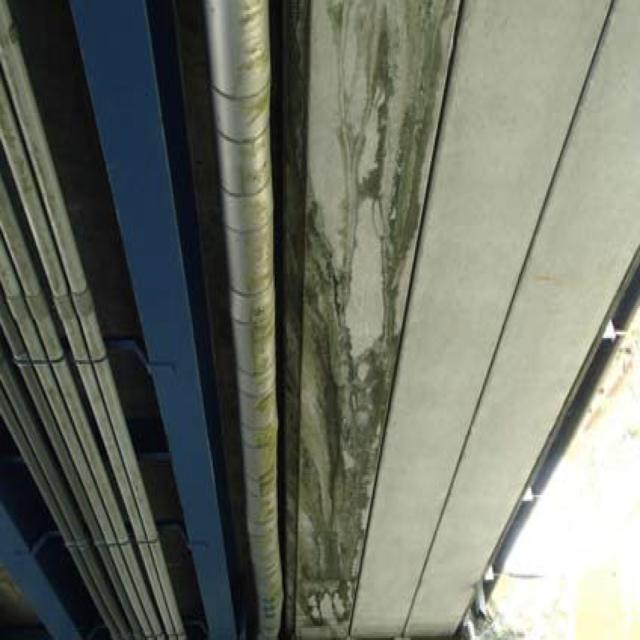leakage: (297, 3, 453, 630)
